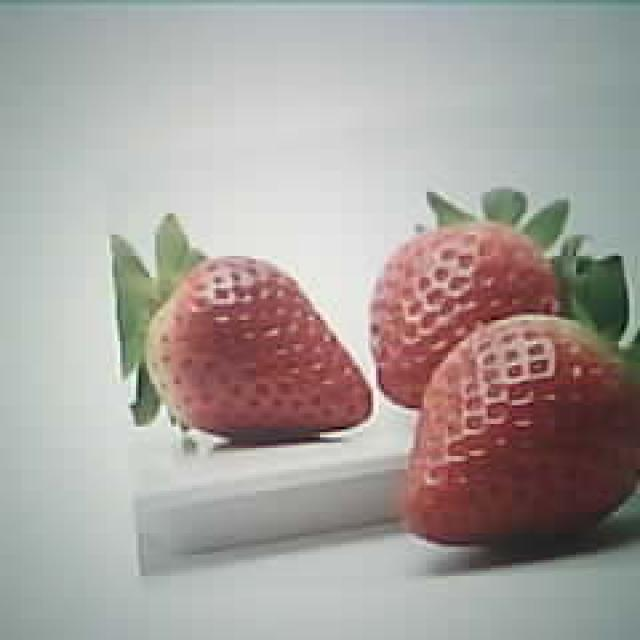ripe: (405, 312, 640, 547), (151, 252, 375, 436), (368, 217, 561, 407)
